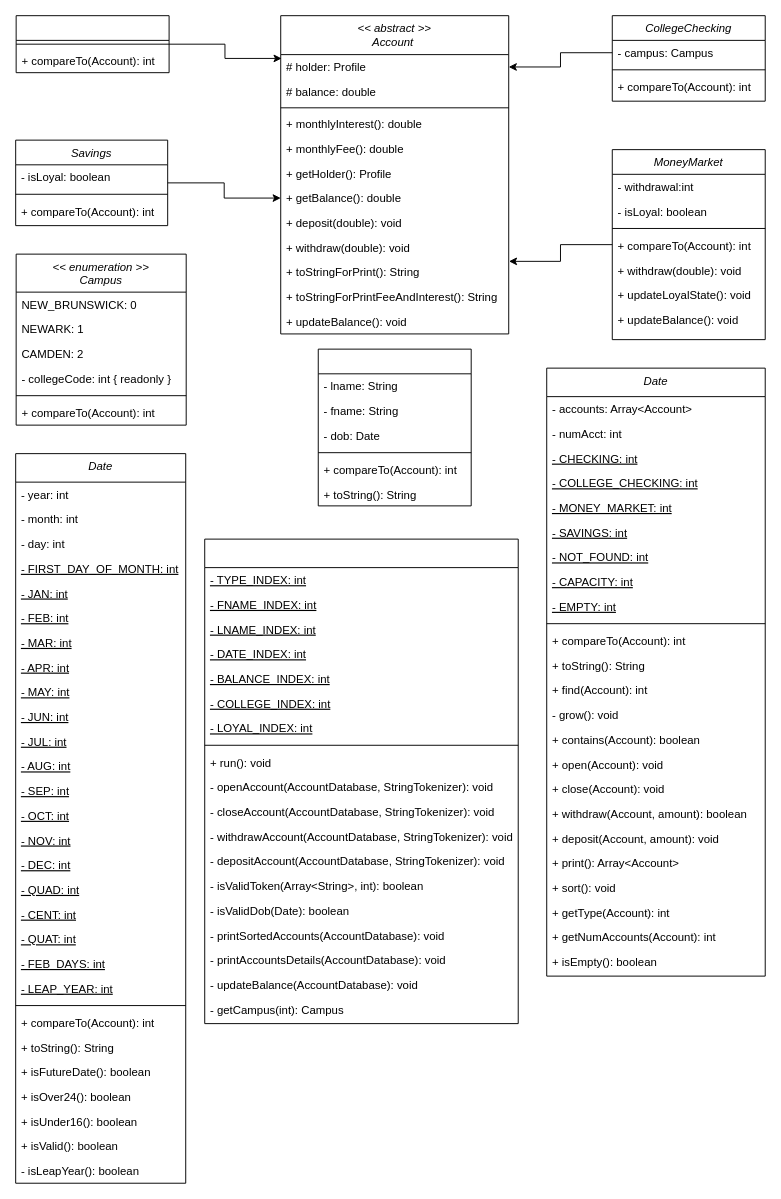
Image size: 781x1199. Some labels were removed from this diagram. The shapes that lost their labels are listed below. From the top down, each one's box as (x1, y1, x2, y2) in pixels, then its label:
(15, 15, 169, 73): Checking
(317, 348, 471, 506): Profile
(204, 538, 518, 1024): TransactionManager
